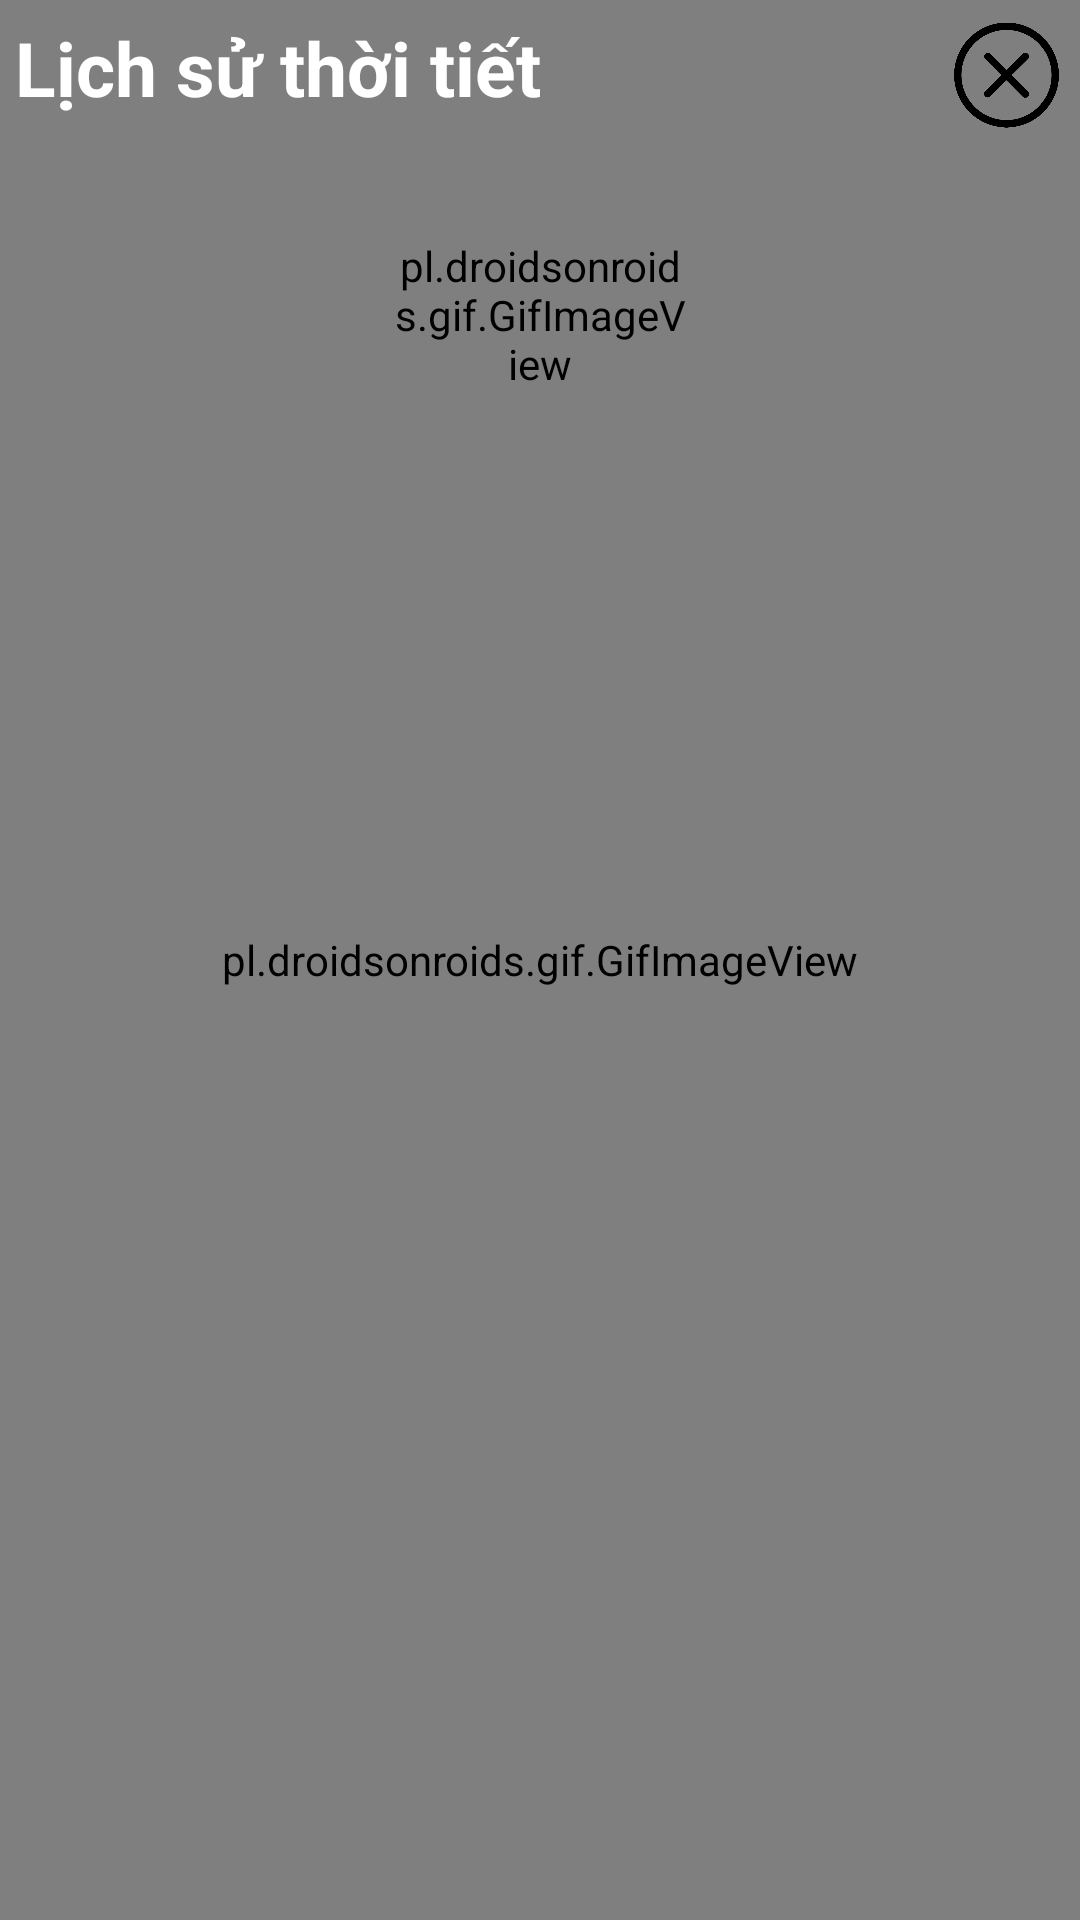

Icons on this 1080*1920 Android screen, each with its box as (x1, y1, x2, y2):
close: (954, 23, 1059, 128)
